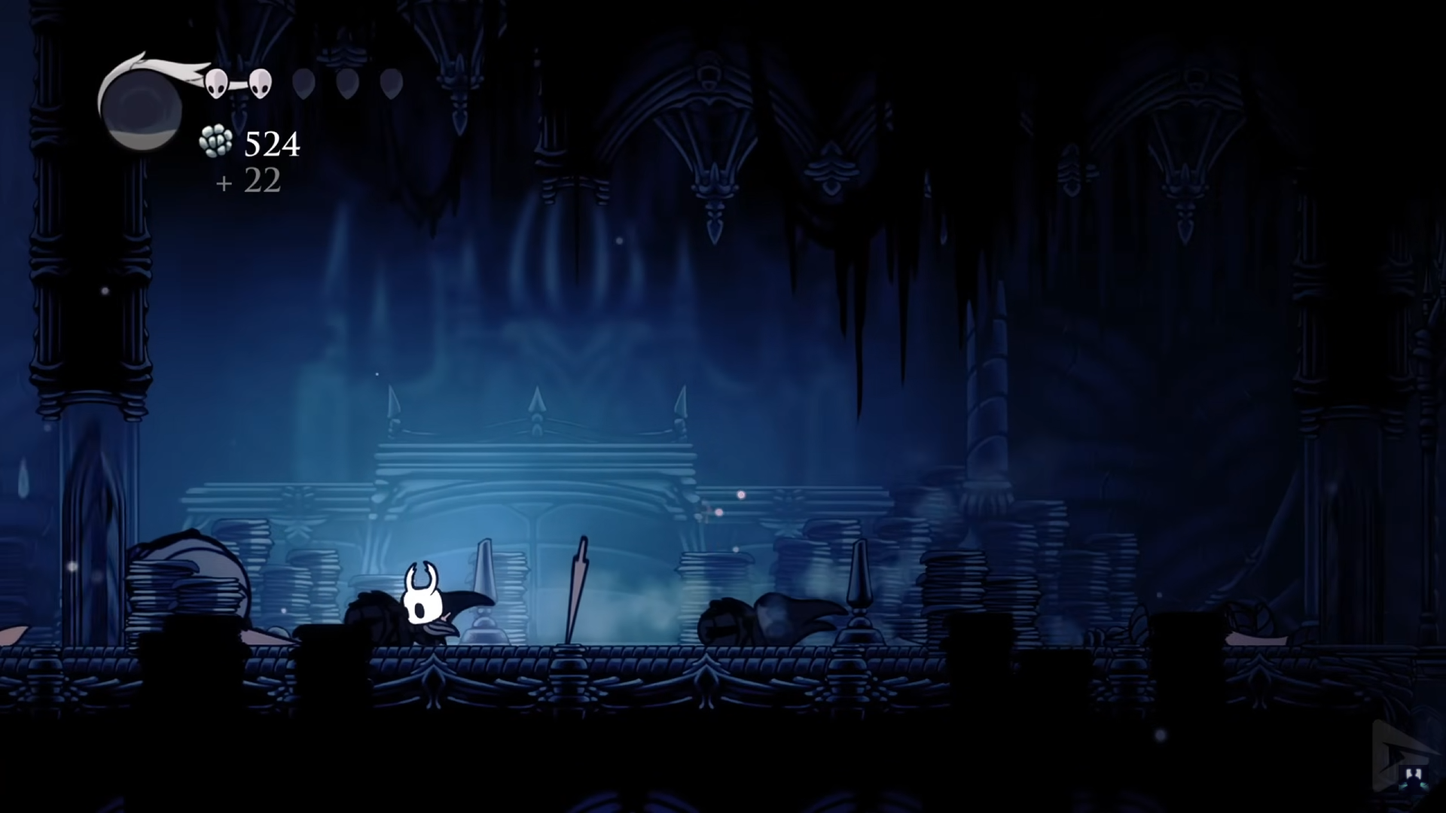HK: (393, 559, 456, 650)
